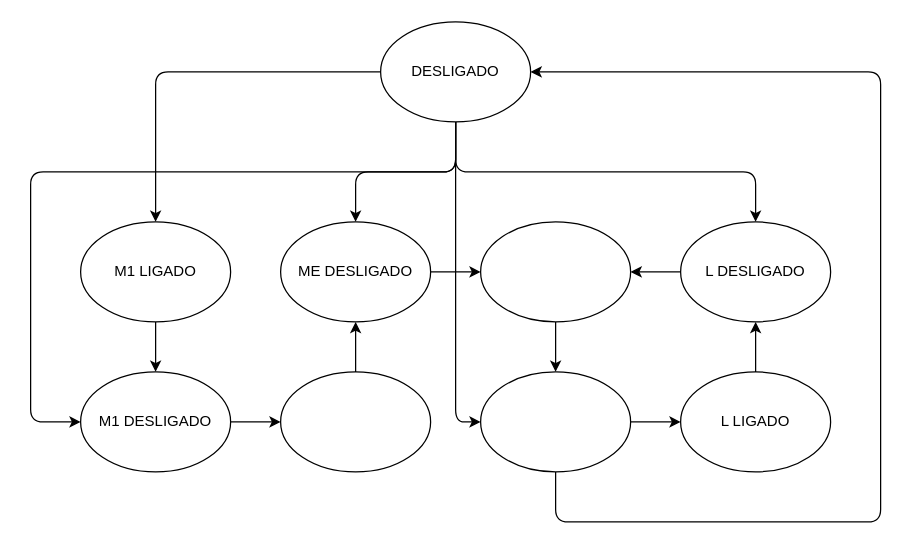
Image size: 913x554. Some labels were removed from this diagram. The shapes that lost their labels are listed below. From the top down, each one's box as (x1, y1, x2, y2) in pixels, then its label:
(479, 221, 631, 322): M2 LIGADO
(279, 371, 431, 472): ME LIGADO
(479, 371, 631, 472): M2 DESLIGADO
